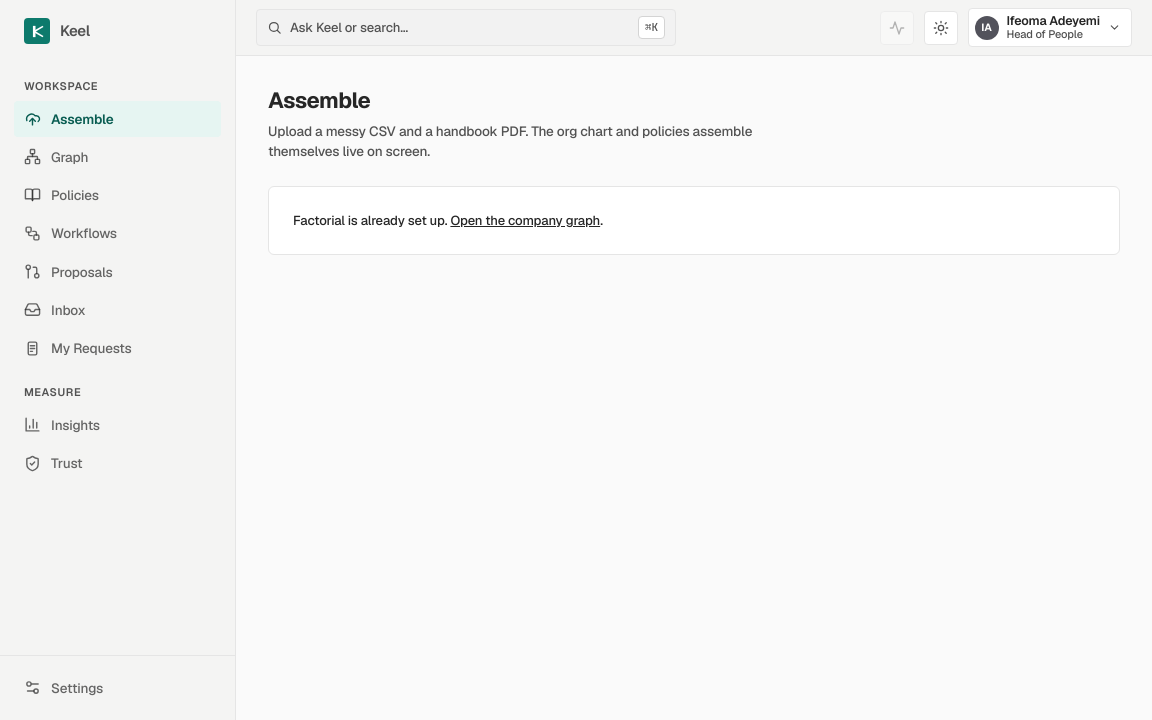
Test case: /settings › shows the person’s MCP tokens, and the sidebar Settings link leads here
The width and height of the screenshot is (1152, 720).
Click the link "Settings" at (64, 688), box left=24, top=679, right=103, bottom=697
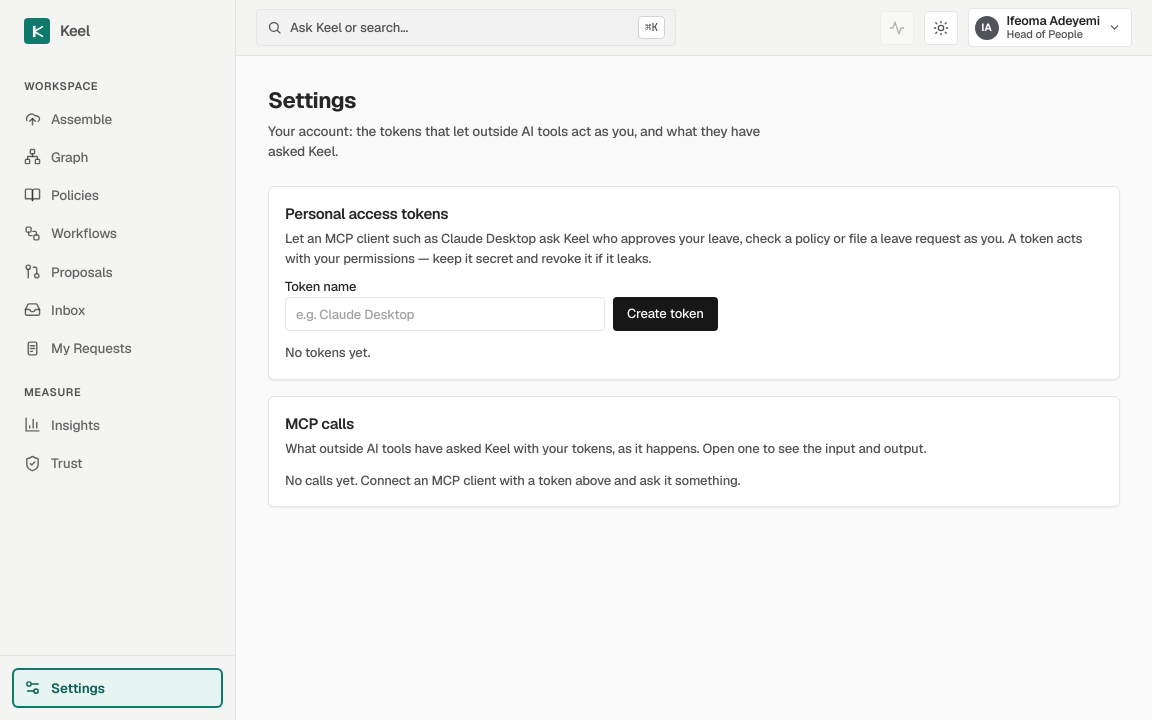
Check: the element "Personal access tokens" is shown, box left=268, top=186, right=1120, bottom=380
Check: the text "No tokens yet." is shown, box left=285, top=344, right=370, bottom=361
Check: the element "MCP calls" is shown, box left=268, top=396, right=1120, bottom=507
